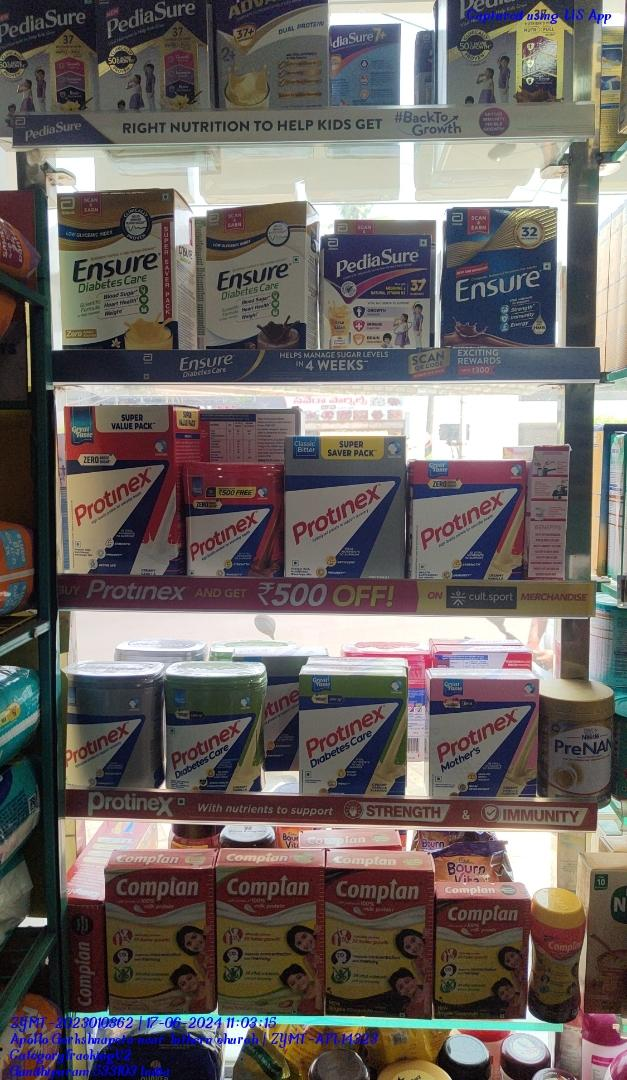COMPLAN_CHOCOLATE_200_GMS_JAR: (540, 903, 588, 1028)
COMPLAN_CHOCOLATE_200_GMS_PACK: (439, 899, 526, 1021)
COMPLAN_CHOCOLATE_500_GMS_PACK: (325, 870, 436, 1018)
COMPLAN_KESAR_BADAM_500_GMS_PACK: (104, 869, 212, 1020)
COMPLAN_PISTA_BADAM_500_GMS_PACK: (219, 867, 320, 1015)
PEDIASURE_CHOCOLATE_500_G_PACK: (447, 0, 569, 102)
PEDIASURE_VANILLA_500_G_PACK: (94, 1, 208, 111), (0, 0, 91, 115)
PROTINEX_CHOCOLATE_400_G_JAR: (184, 459, 280, 578)
PROTINEX_ORIGINAL_400_G_JAR: (66, 673, 156, 792)
